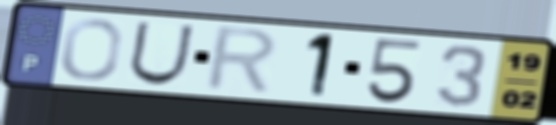1: (299, 31, 338, 102)
3: (433, 42, 492, 111)
5: (364, 36, 425, 106)
O: (57, 16, 126, 82)
R: (200, 24, 282, 98)
U: (124, 19, 198, 87)
